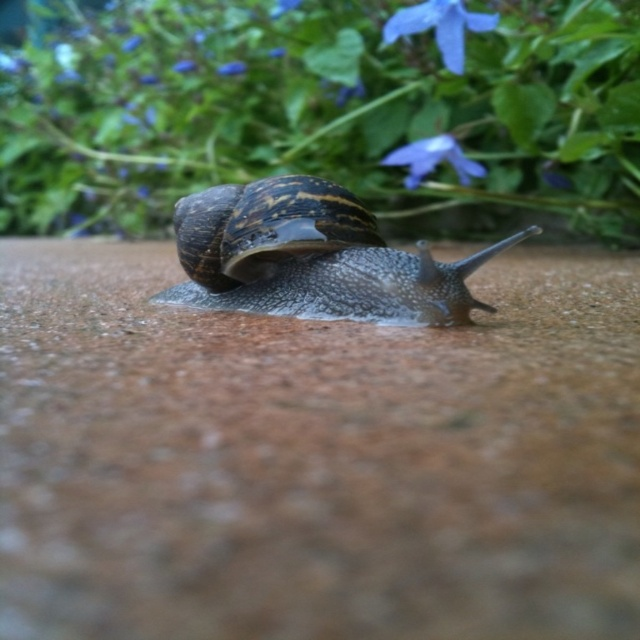Snail: (149, 168, 538, 332)
